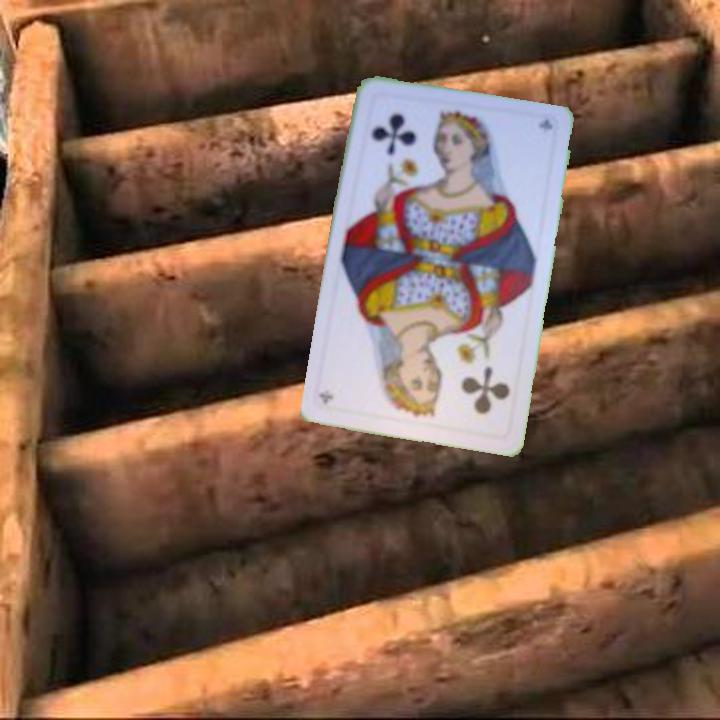c_q.png: (355, 91, 467, 191), (410, 339, 522, 439)
